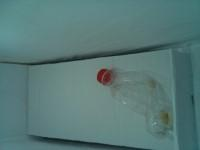bottle: (79, 50, 165, 132)
